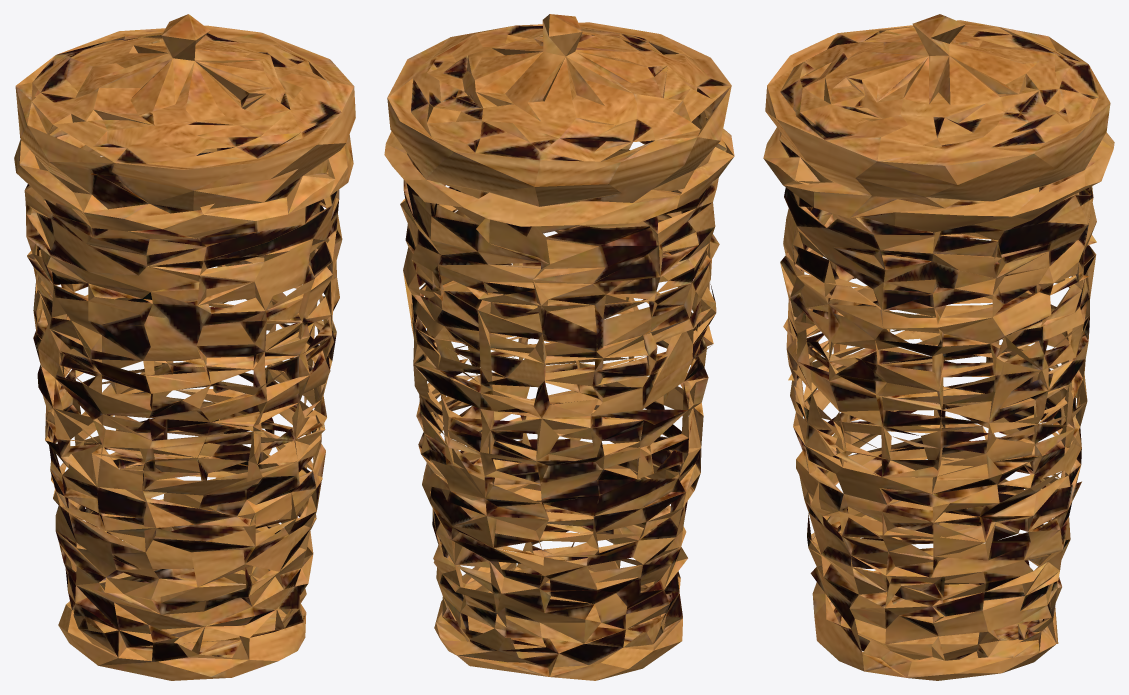
File: laundry_basket.glb
3 renders of one model, left to right at view 1: azimuth 30°, elevation 25°; view 2: azimuth 150°, elevation 25°; view 3: azimuth 270°, elevation 25°, orthographic.
Size of the model in its own units: 0.9568 by 1.9 by 0.9758.
Materials: 1 (1 with a texture image).
